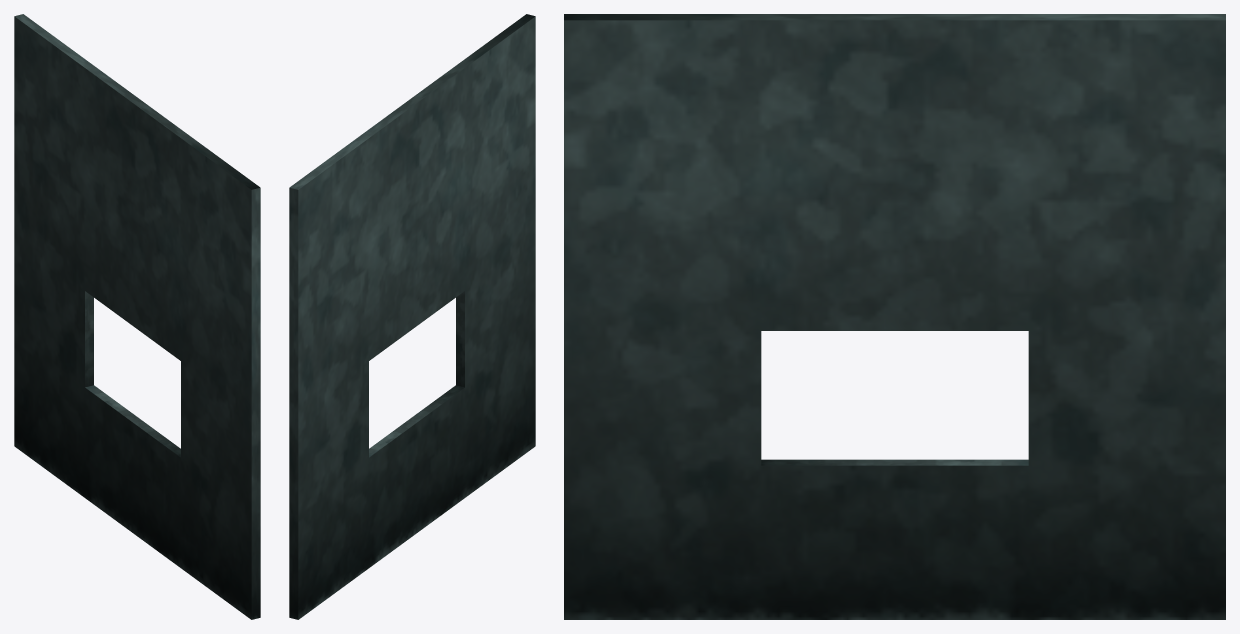
Rendered from WindowWallDarkGreen_SM.fbx.
3 renders of one model, left to right at view 1: azimuth 30°, elevation 25°; view 2: azimuth 150°, elevation 25°; view 3: azimuth 270°, elevation 25°, orthographic. The views are drawn at different scales.
Parts seen in each view (by area): view 1: WindowWall; view 2: WindowWall; view 3: WindowWall.
Part boxes in pixels (x1,y1,x2,y2): WindowWall: [14, 14, 260, 619]; WindowWall: [289, 14, 535, 619]; WindowWall: [564, 14, 1225, 619].
Size of the model in its own units: 10 by 450 by 450.
1 material, 1 textured.
